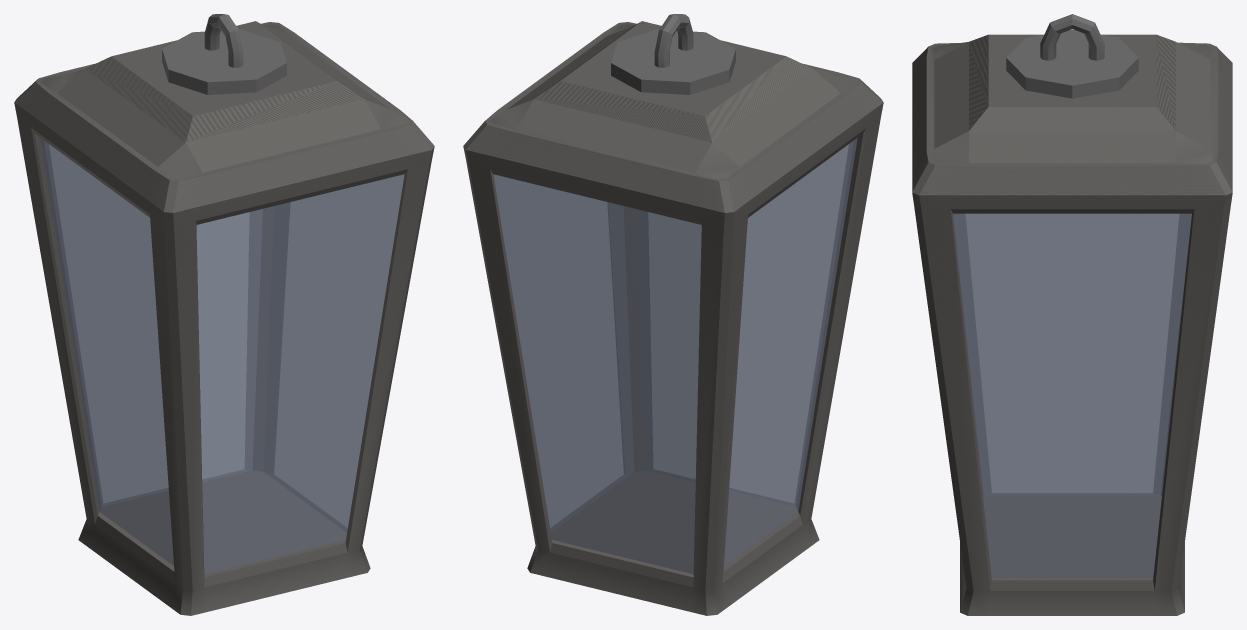
Rendered from Lantern.fbx.
The picture shows the model from 3 angles, left to right: view 1: azimuth 30°, elevation 25°; view 2: azimuth 150°, elevation 25°; view 3: azimuth 270°, elevation 25°; orthographic projection. The views are drawn at different scales.
Parts seen in each view (by area): view 1: pCube4; view 2: pCube4; view 3: pCube4.
Boxes of the visible parts, left/top/right/bottom form: pCube4: left=14, top=14, right=434, bottom=615; pCube4: left=463, top=14, right=883, bottom=615; pCube4: left=912, top=14, right=1232, bottom=615.
Bounding box in the file's own units: 564 × 1076 × 564.
3 materials, 1 textured.
